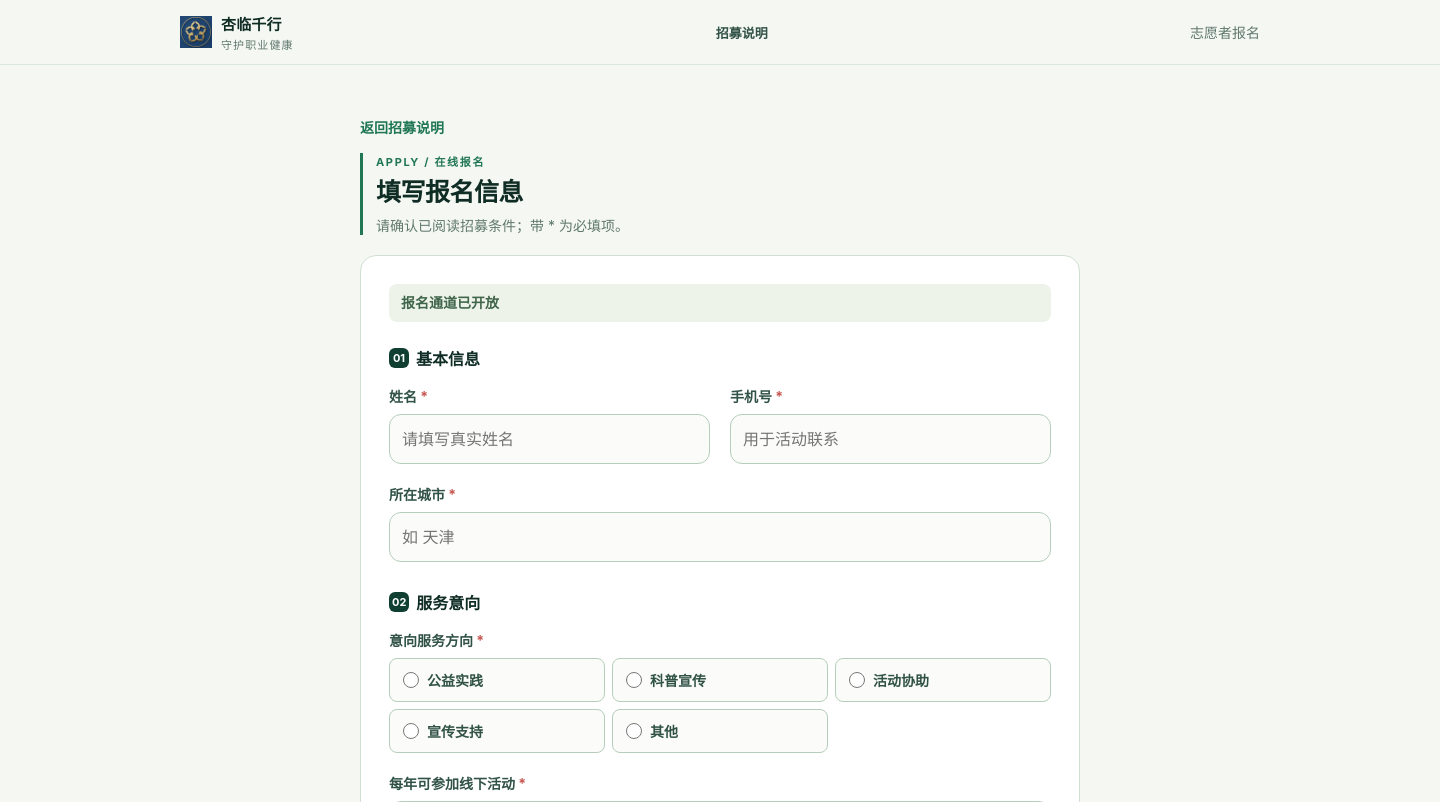
registration experience › preserves drafts across internal navigation without storing personal data
Expected: the text "报名通道已开放" is shown, [401,292,499,314]
In the field labelled "姓名": (550, 439) [389,414,710,464], type "草稿测试"
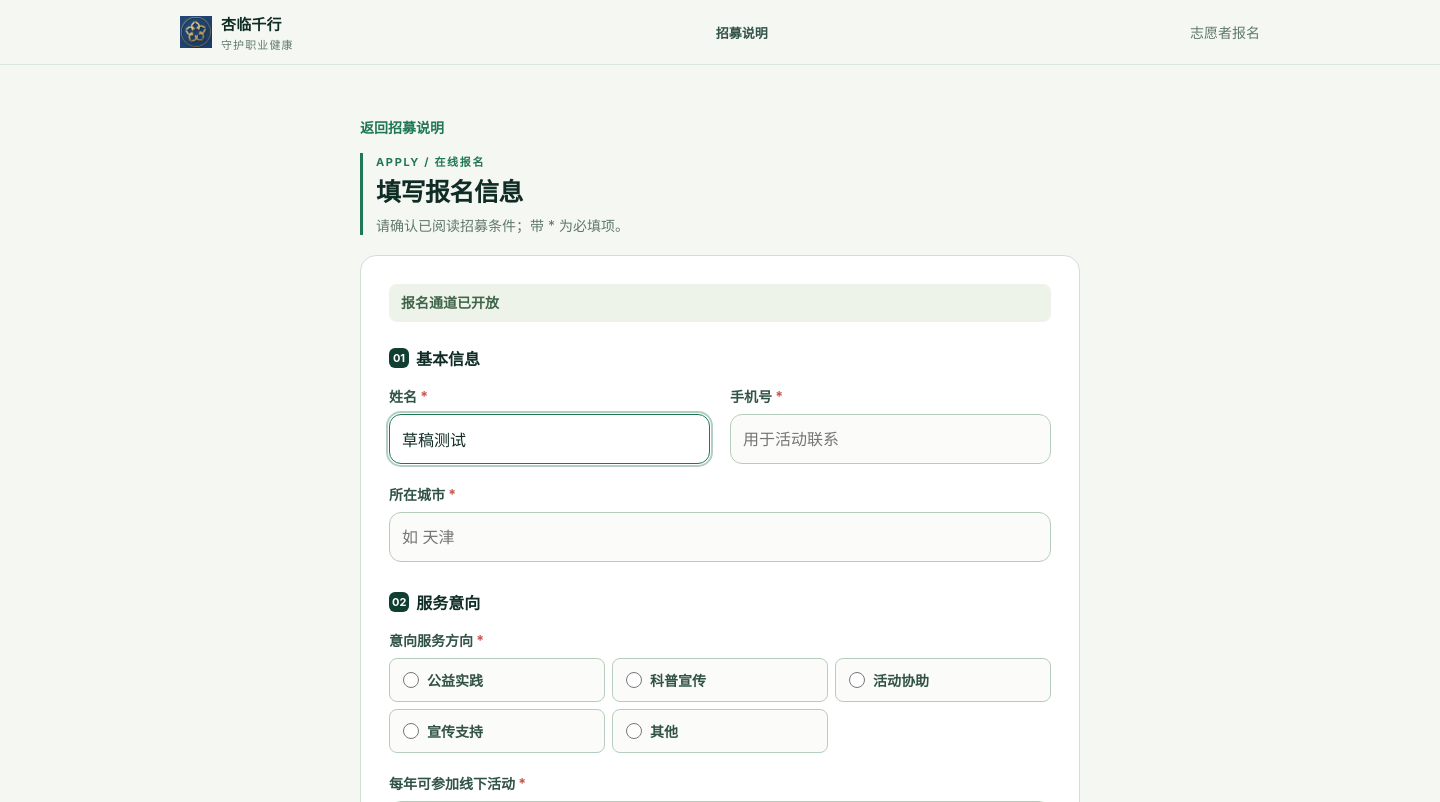
Click the link "返回招募说明": click(402, 128) [360,119,444,136]
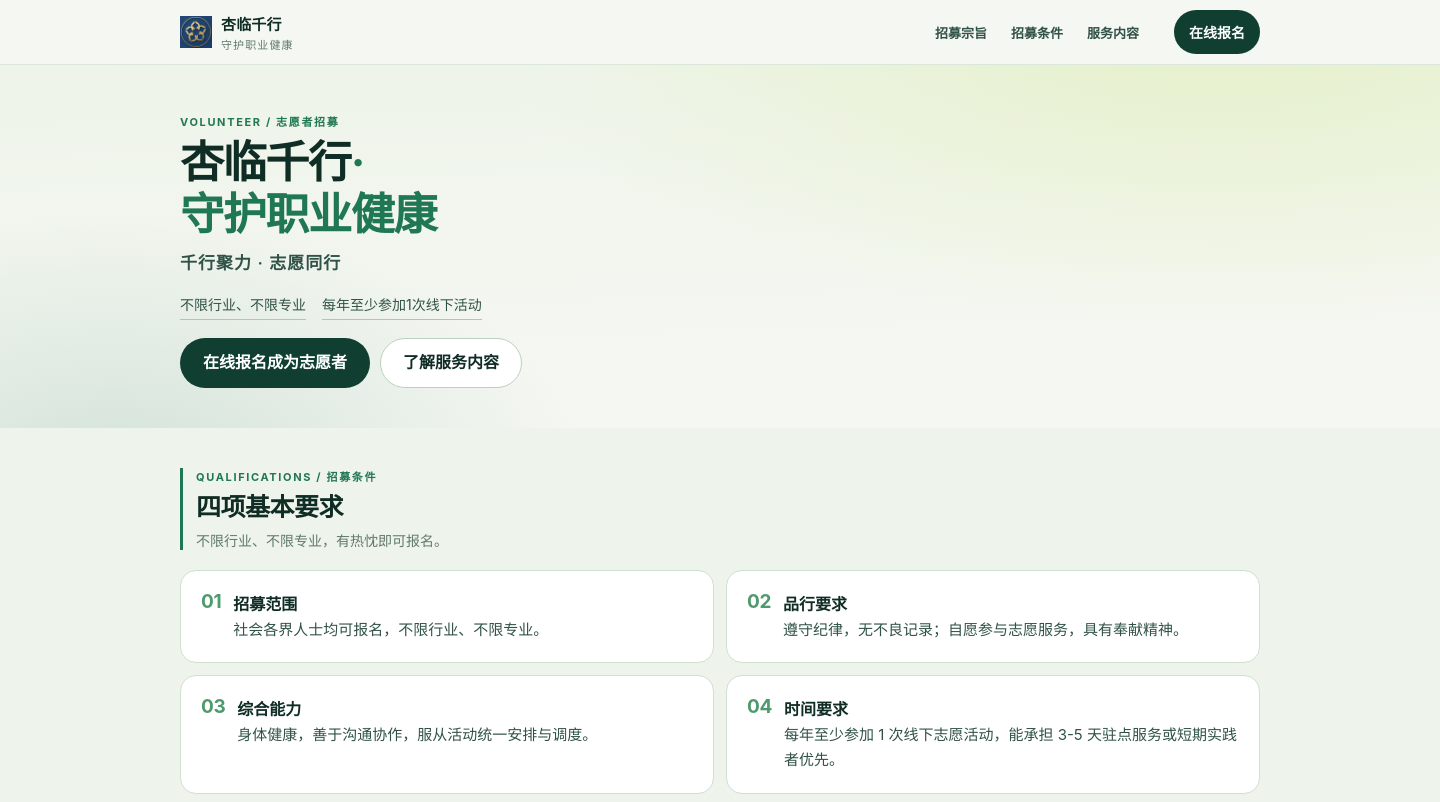
Click the link "在线报名": click(1217, 32) [1174,10,1260,54]
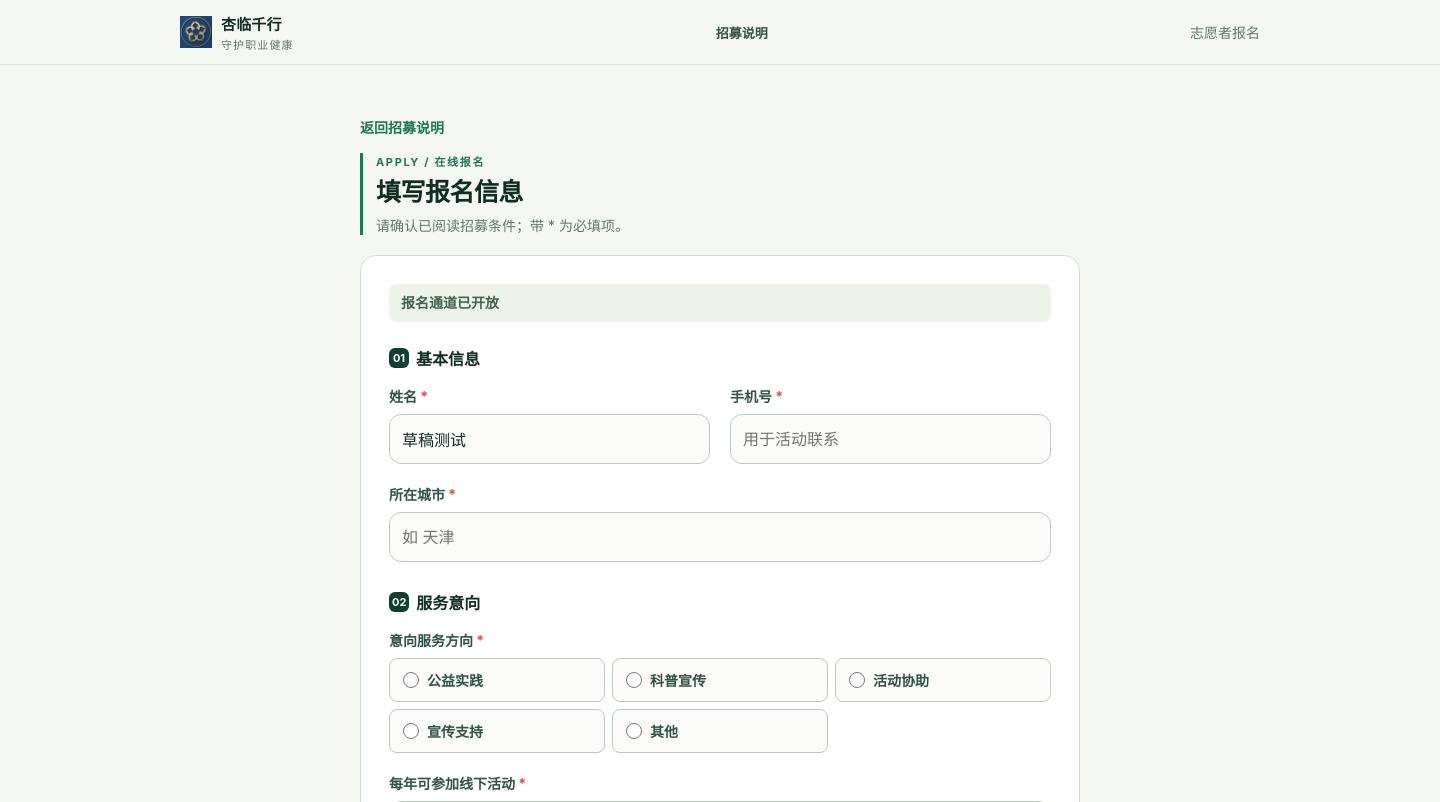
Now the text "报名通道已开放" is shown, box [401,292,499,314]
Now the field labelled "姓名" holds "草稿测试", box [389,414,710,464]
